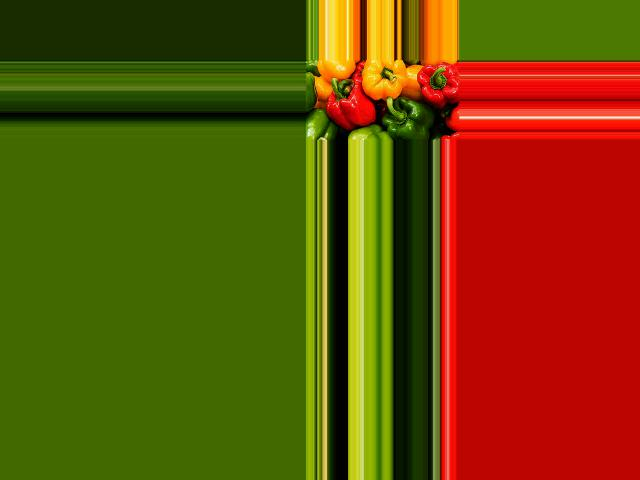bell_pepper: (411, 61, 458, 108)
